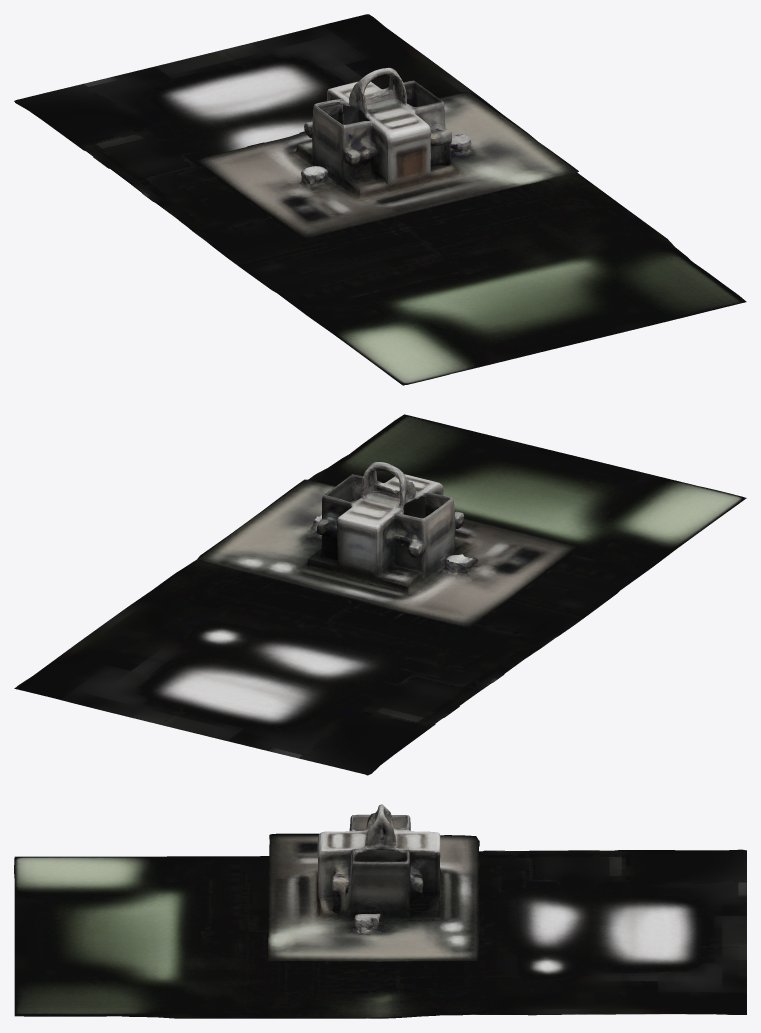
The model's file is trellis_result.glb.
3 renders of one model, top to bottom at view 1: azimuth 30°, elevation 25°; view 2: azimuth 150°, elevation 25°; view 3: azimuth 270°, elevation 25°, orthographic. The views are drawn at different scales.
Visible parts, largest first — view 1: world; view 2: world; view 3: world.
Boxes of the visible parts, box(x1,y1,x2,y2) form: world: box(14, 14, 746, 385); world: box(14, 414, 746, 775); world: box(14, 804, 746, 1018).
Bounding box in the file's own units: 0.5349 × 0.193 × 1.
Materials: 1 (1 with a texture image).
